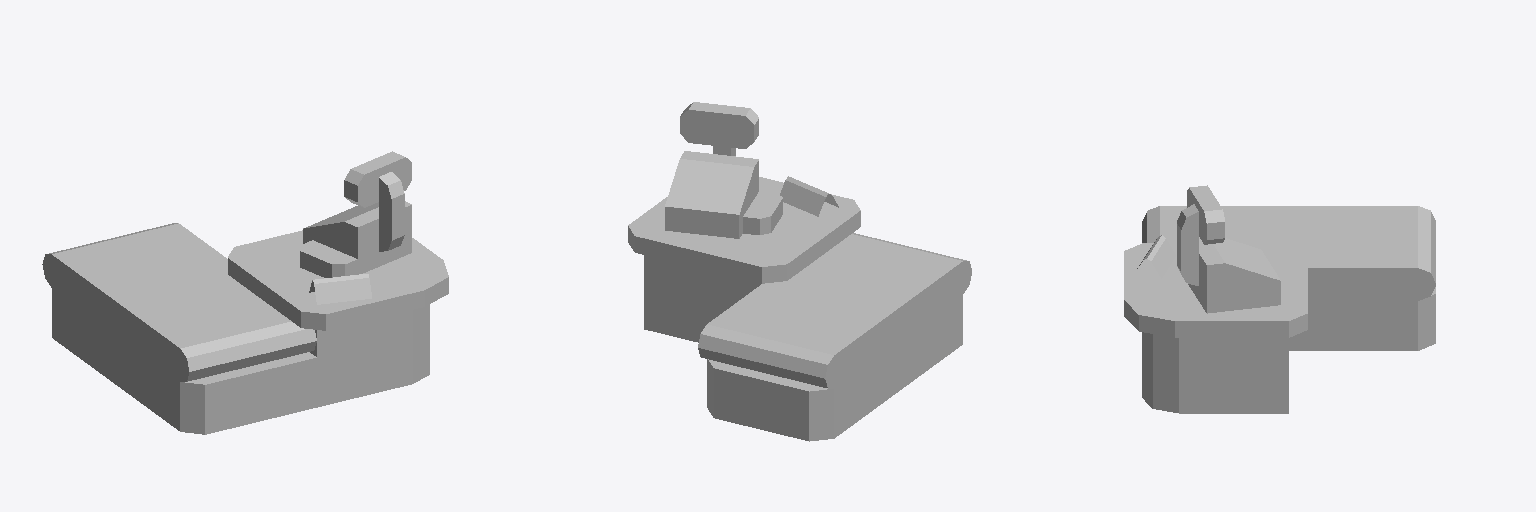
Rendered from cash-register.obj.
The picture shows the model from 3 angles: view 1: azimuth 30°, elevation 25°; view 2: azimuth 150°, elevation 25°; view 3: azimuth 270°, elevation 25°; orthographic projection.
Visible parts, largest first — view 1: cash-register; view 2: cash-register; view 3: cash-register.
Boxes of the visible parts, box(x1,y1,x2,y2) form: cash-register: box(42, 151, 448, 434); cash-register: box(628, 102, 971, 441); cash-register: box(1124, 185, 1435, 413).
Bounding box in the file's own units: 0.85 × 0.5949 × 0.85.